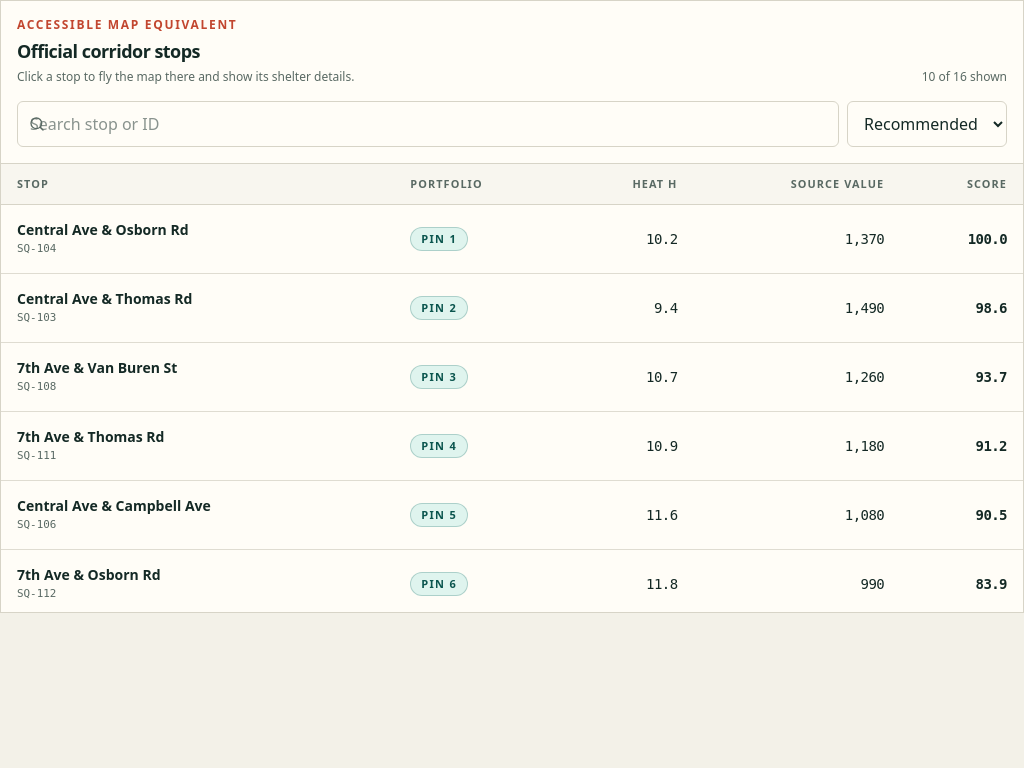
Test: StopsTable › filters the accessible stop alternative and recovers from an empty result
Type "not a real stop" into the search field named "Search stops" at (428, 124), box [17,101,839,147]
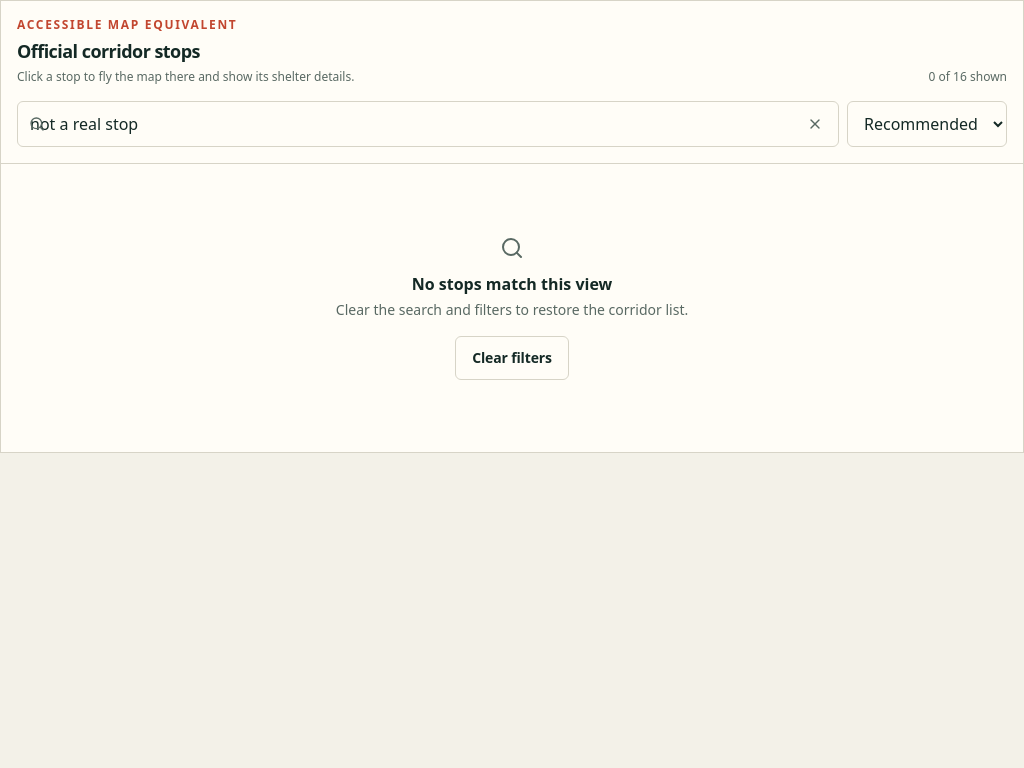
Now the heading "No stops match this view" is shown, box [412,273,612,295]
Click the button "Clear filters" at (512, 358), box [455,336,569,380]
(page scrolled)
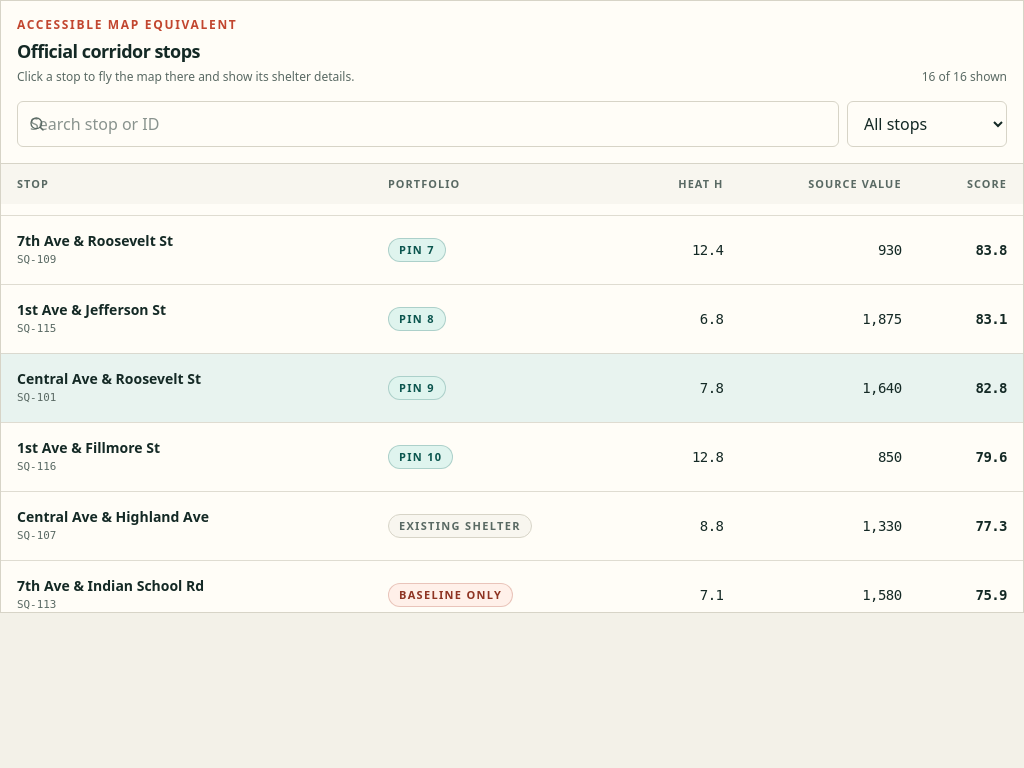
Now the button "Central Ave & Roosevelt St SQ-101" is shown, box [17,366,201,410]
